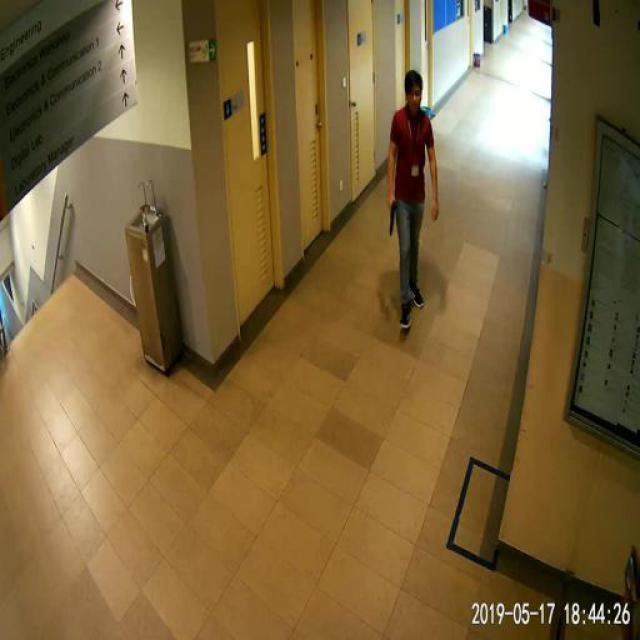weapon: (388, 198, 397, 238)
